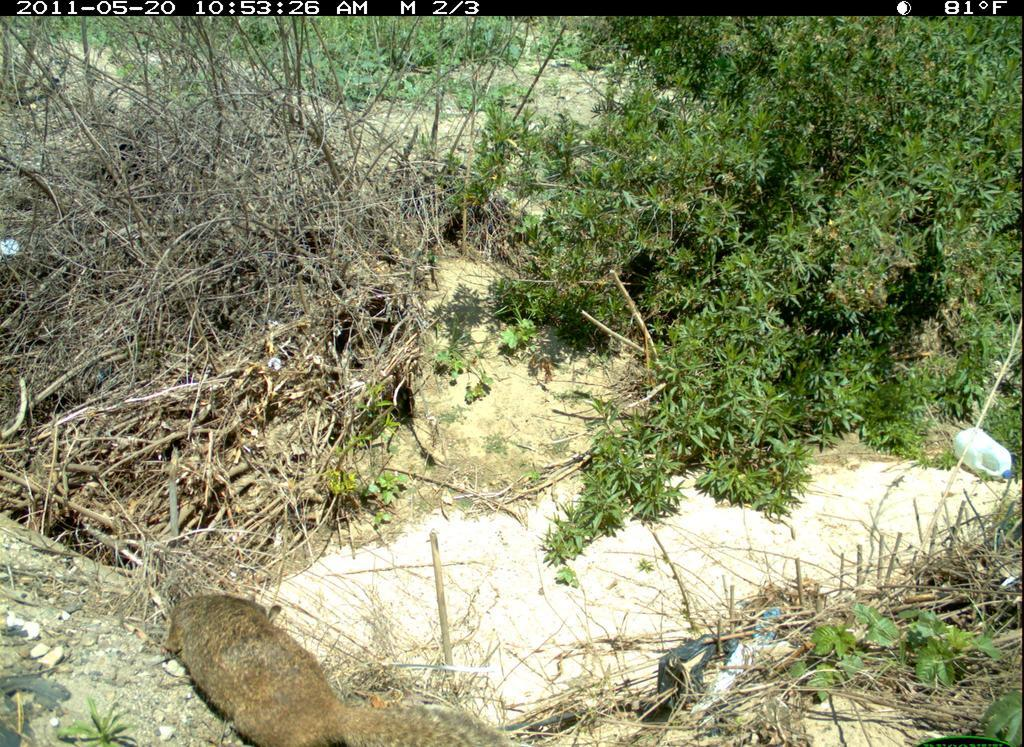squirrel: (162, 589, 530, 747)
